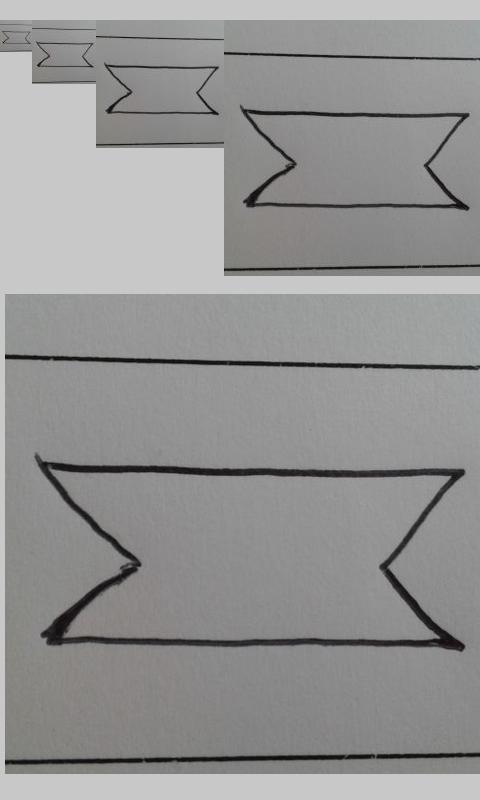edit_text: (39, 461, 461, 653), (241, 107, 469, 211), (104, 63, 220, 116), (36, 42, 93, 68), (2, 30, 31, 45)
